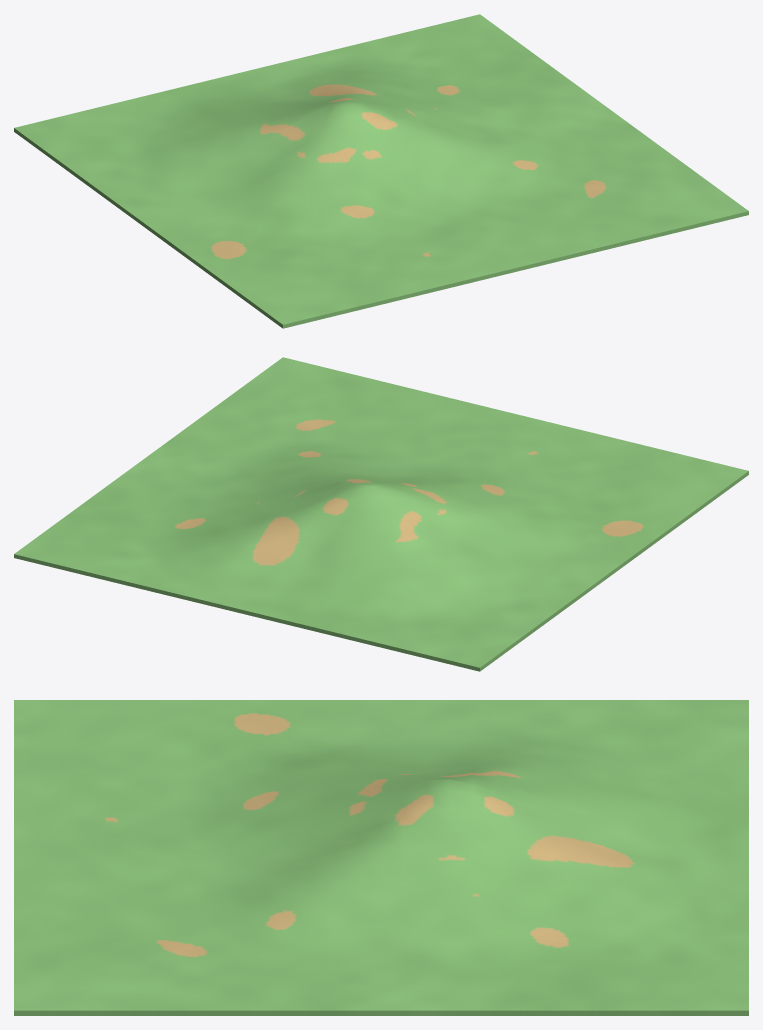
The model's file is Grass_Hills_01.obj.
3 renders of one model, top to bottom at view 1: azimuth 30°, elevation 25°; view 2: azimuth 150°, elevation 25°; view 3: azimuth 270°, elevation 25°, orthographic. The views are drawn at different scales.
Size of the model in its own units: 10 by 1.07 by 10.
Materials: 1 (1 with a texture image).
